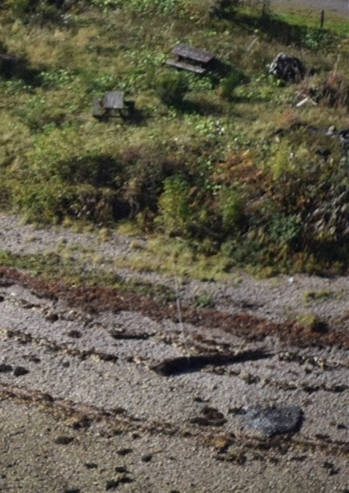straight_bar: (151, 342, 273, 379)
tube: (173, 303, 195, 351), (166, 268, 188, 302)
